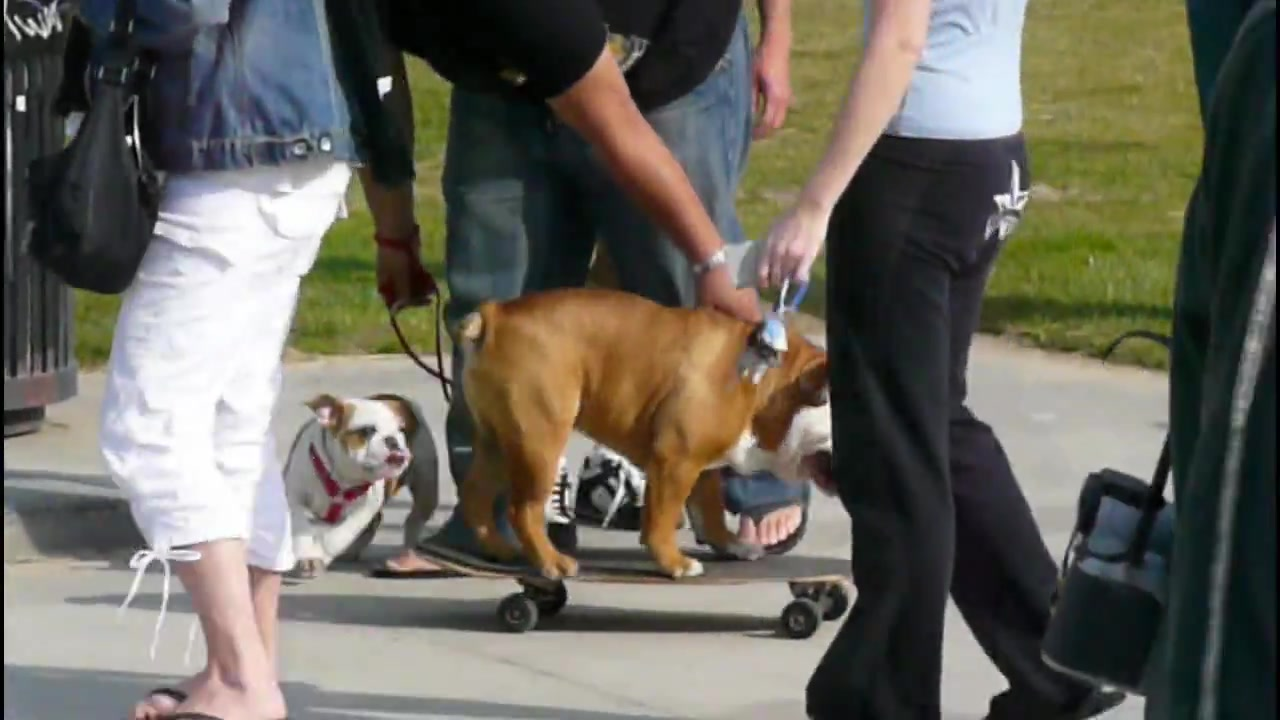dog: (451, 290, 835, 578)
